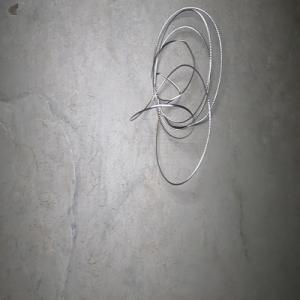Wire: (129, 6, 222, 185)
